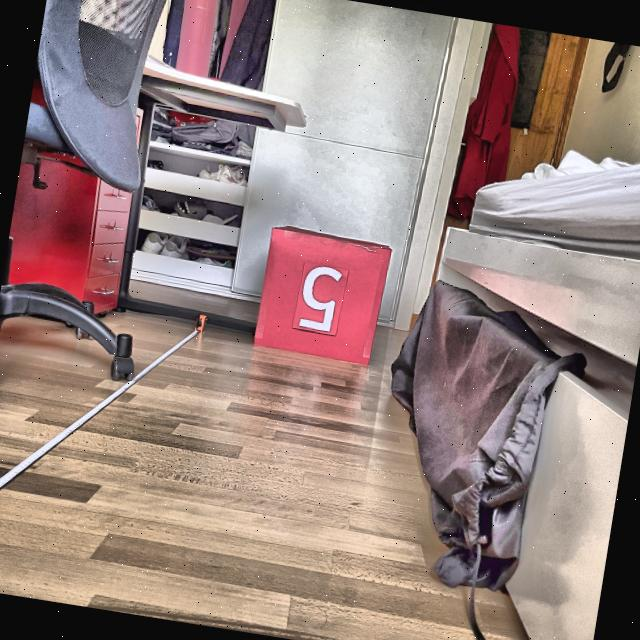five: (295, 262, 344, 335)
red box: (252, 223, 392, 368)
